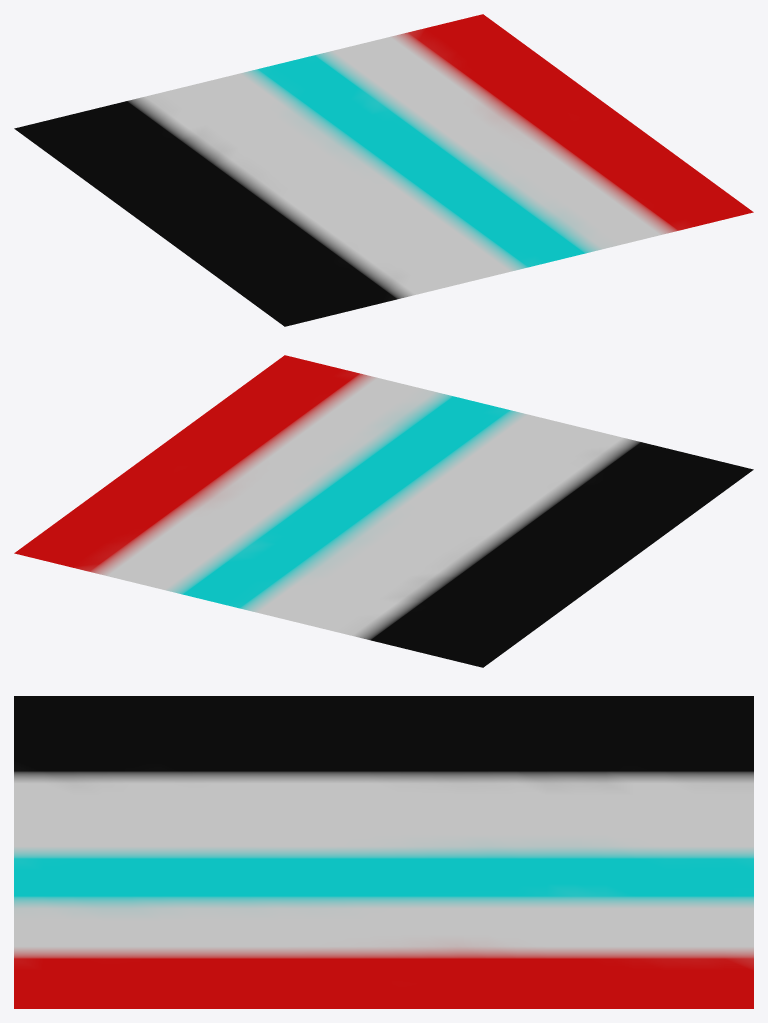
File: plane_color_vertex.fbx
3 views of the same model, one above another, from view 1: azimuth 30°, elevation 25°; view 2: azimuth 150°, elevation 25°; view 3: azimuth 270°, elevation 25° (orthographic). The views are drawn at different scales.
Parts seen in each view (by area): view 1: Grid; view 2: Grid; view 3: Grid.
Boxes of the visible parts, bbox=[...] form: Grid: bbox=[14, 14, 753, 326]; Grid: bbox=[14, 355, 753, 667]; Grid: bbox=[14, 696, 753, 1008].
Bounding box in the file's own units: 200 × 3.26e-05 × 200.
